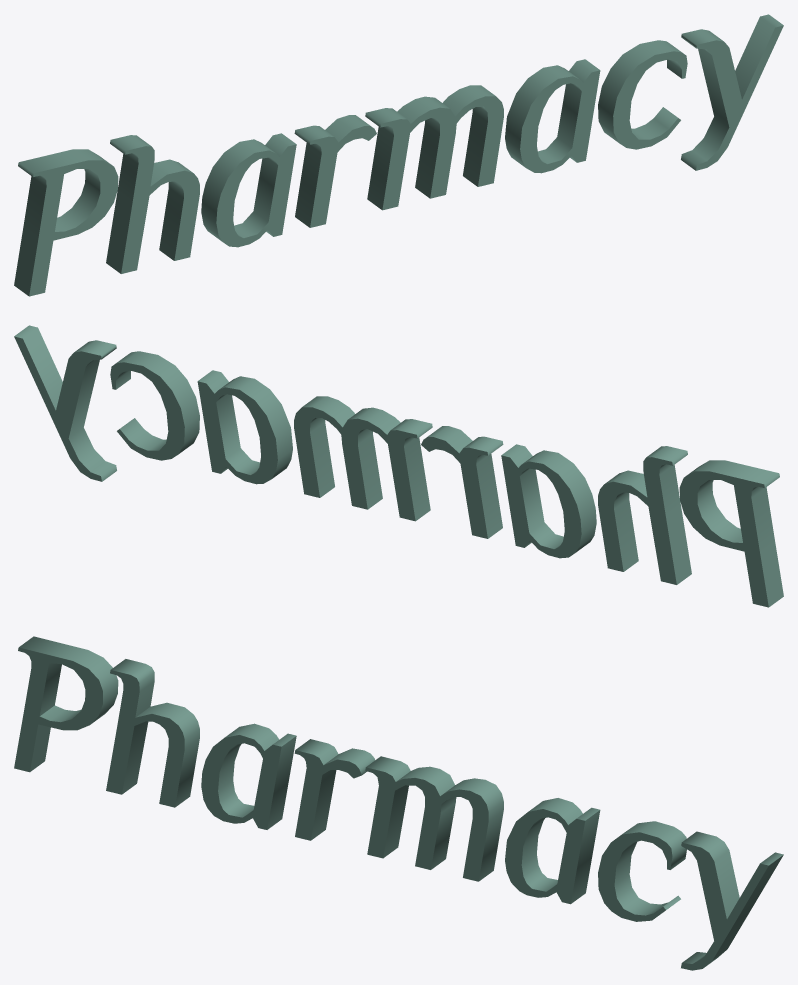
File: Sign_Pharmacy.glb
3 views of the same model, one above another, from view 1: azimuth 30°, elevation 25°; view 2: azimuth 150°, elevation 25°; view 3: azimuth 330°, elevation 25° (orthographic).
Parts seen in each view (by area): view 1: Sign_Pharmacy_CUText.005; view 2: Sign_Pharmacy_CUText.005; view 3: Sign_Pharmacy_CUText.005.
Boxes of the visible parts, box(x1,y1,x2,y2) form: Sign_Pharmacy_CUText.005: box(14, 14, 783, 296); Sign_Pharmacy_CUText.005: box(14, 325, 783, 607); Sign_Pharmacy_CUText.005: box(14, 636, 783, 970).
Size of the model in its own units: 2.13 by 0.4284 by 0.0739.
Materials: 1 (1 with a texture image).
